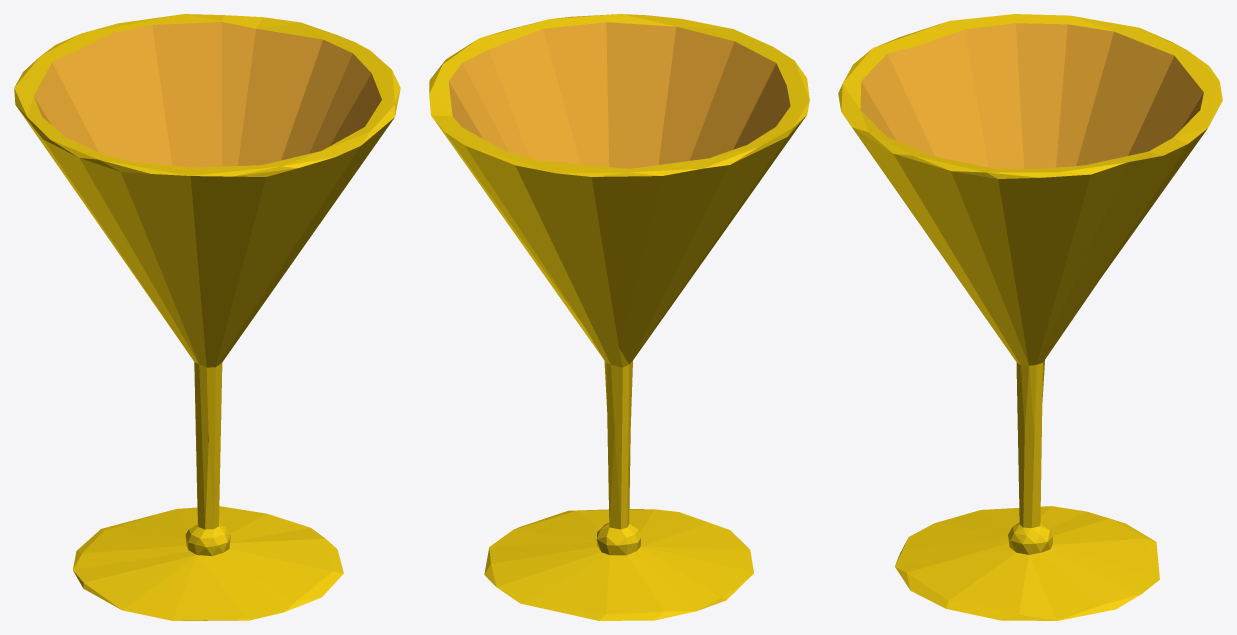
The model's file is DrinkingGlass04.fbx.
3 views of the same model, side by side, from view 1: azimuth 30°, elevation 25°; view 2: azimuth 150°, elevation 25°; view 3: azimuth 270°, elevation 25° (orthographic).
Visible parts, largest first — view 1: DrinkingGlass04LowPoly; view 2: DrinkingGlass04LowPoly; view 3: DrinkingGlass04LowPoly.
Part boxes in pixels (left/top/right/bottom): DrinkingGlass04LowPoly: left=14, top=14, right=400, bottom=620; DrinkingGlass04LowPoly: left=429, top=14, right=809, bottom=620; DrinkingGlass04LowPoly: left=838, top=14, right=1222, bottom=620.
Bounding box in the file's own units: 11.1 × 15.02 × 11.1.
